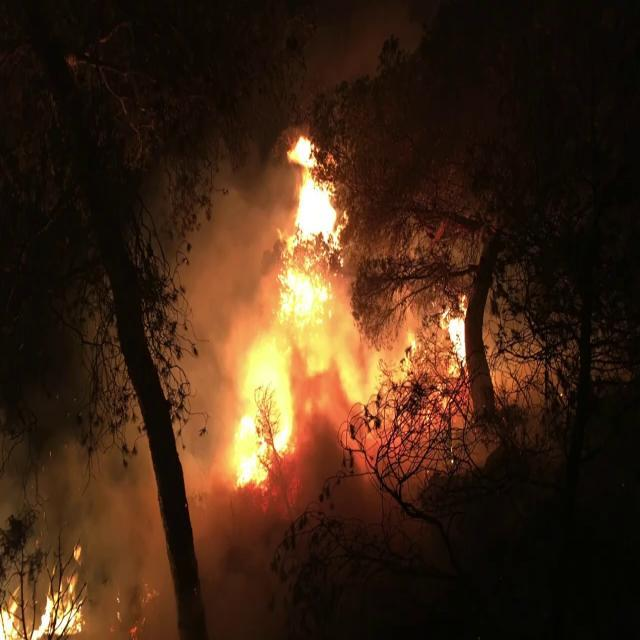Fire: (210, 130, 398, 493), (0, 554, 92, 640), (437, 291, 470, 378)
